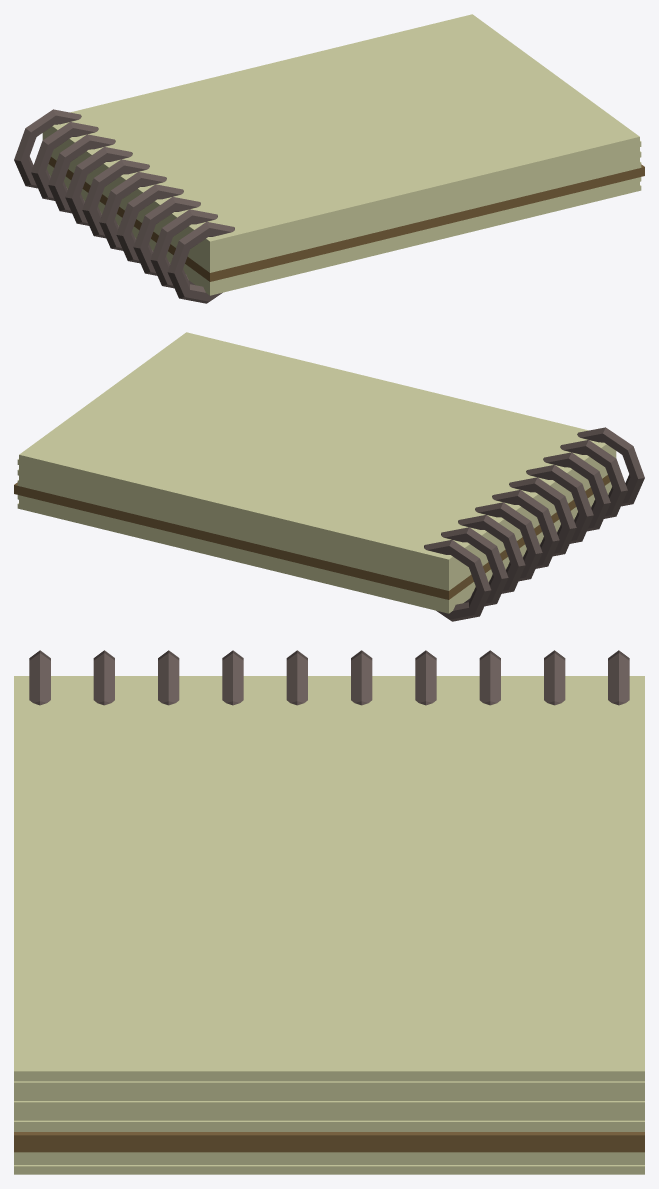
3 renders of one model, top to bottom at view 1: azimuth 30°, elevation 25°; view 2: azimuth 150°, elevation 25°; view 3: azimuth 270°, elevation 25°, orthographic. The views are drawn at different scales.
Visible parts, largest first — view 1: Notebook; view 2: Notebook; view 3: Notebook.
Part boxes in pixels (x1,y1,x2,y2): Notebook: [14, 14, 644, 303]; Notebook: [14, 332, 644, 621]; Notebook: [14, 650, 644, 1174].
Bounding box in the file's own units: 364 × 60.59 × 224.
